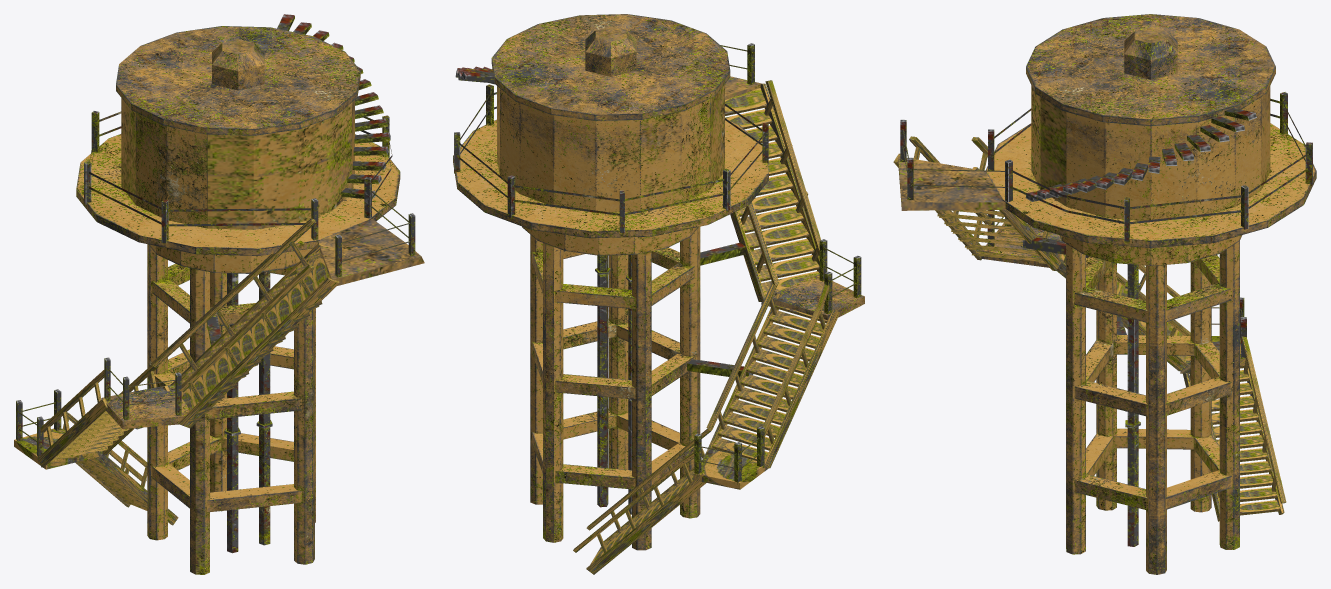
File: water tank.fbx
3 views of the same model, side by side, from view 1: azimuth 30°, elevation 25°; view 2: azimuth 150°, elevation 25°; view 3: azimuth 270°, elevation 25° (orthographic). The views are drawn at different scales.
Parts seen in each view (by area): view 1: water_tank; view 2: water_tank; view 3: water_tank.
Part boxes in pixels (x1,y1,x2,y2): water_tank: [14, 14, 424, 574]; water_tank: [453, 14, 864, 574]; water_tank: [893, 14, 1316, 574].
Bounding box in the file's own units: 1466 × 2108 × 1609.
Materials: 1 (1 with a texture image).
